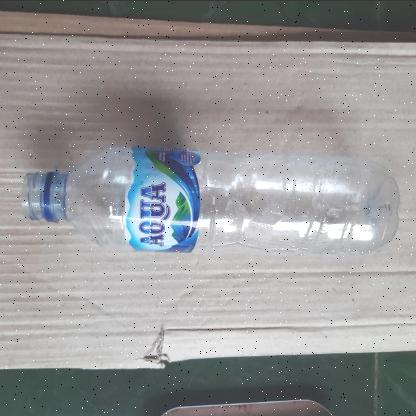Plastic Bottle: (20, 145, 400, 253)
